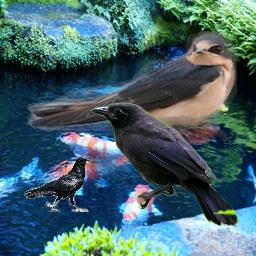Crow: (91, 102, 239, 227), (24, 157, 92, 212)
Swallow: (27, 30, 237, 145)
